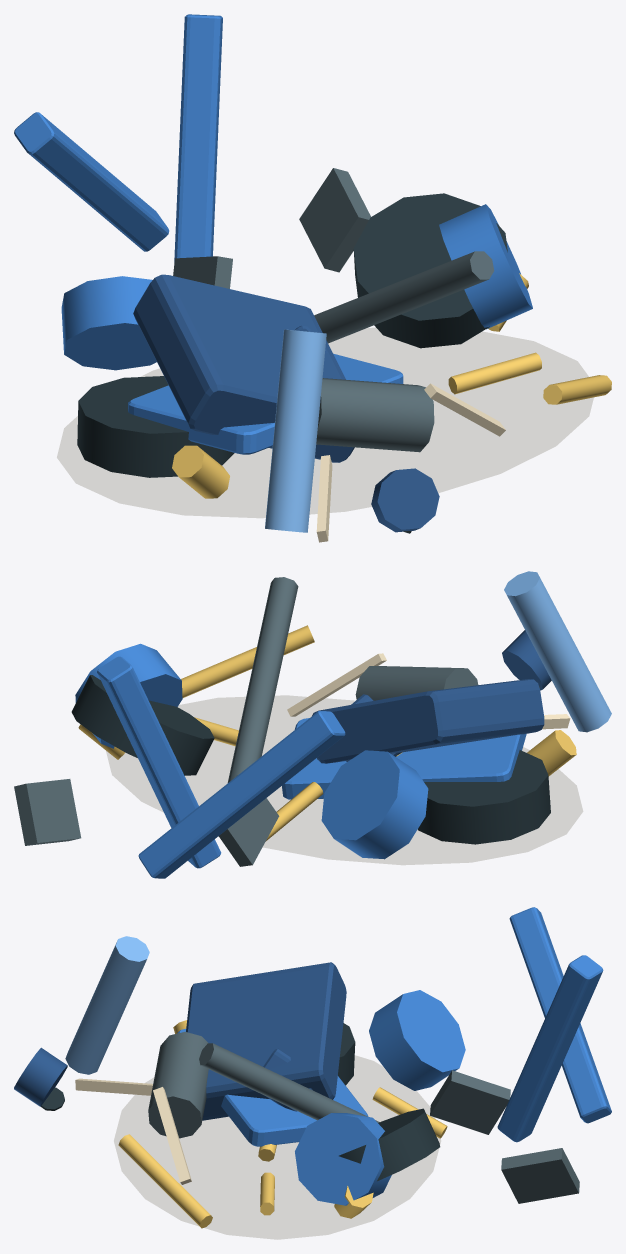
The model's file is artillery-blue-broken.glb.
3 renders of one model, top to bottom at view 1: azimuth 30°, elevation 25°; view 2: azimuth 150°, elevation 25°; view 3: azimuth 270°, elevation 25°, orthographic. The views are drawn at different scales.
Visible parts, largest first — view 1: settled-toy-pieces (×7), impact-mark; view 2: settled-toy-pieces (×7), impact-mark; view 3: settled-toy-pieces (×7), impact-mark.
Boxes of the visible parts, x1,y1,x2,y2 form: settled-toy-pieces (×7): (14,14,611,542); impact-mark: (57,328,593,517); settled-toy-pieces (×7): (14,571,611,878); impact-mark: (106,695,582,864); settled-toy-pieces (×7): (14,907,611,1228); impact-mark: (114,1055,440,1239).
Size of the model in its own units: 2.2 by 1.07 by 2.81.
